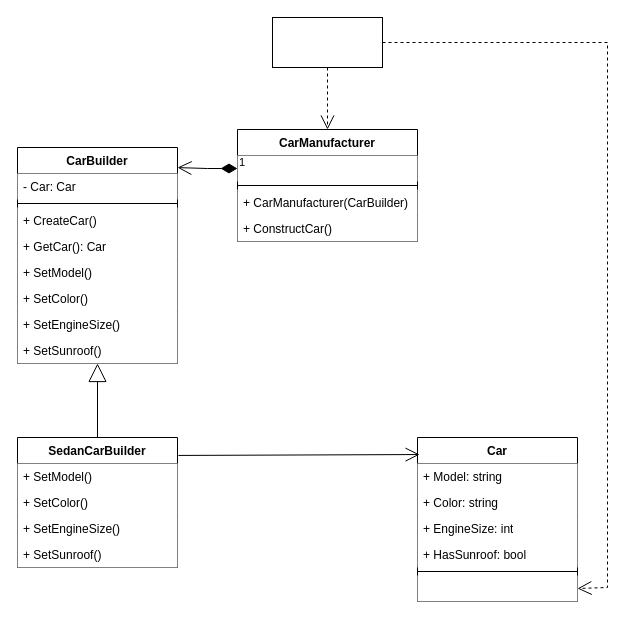
This 639x622 diagram has some shape labels left out. Each missing label, with the centre of its shape:
"+ Display()" goes at point (497, 588).
"- builder: CarBuilder" goes at point (327, 168).
"Program" goes at point (327, 42).
